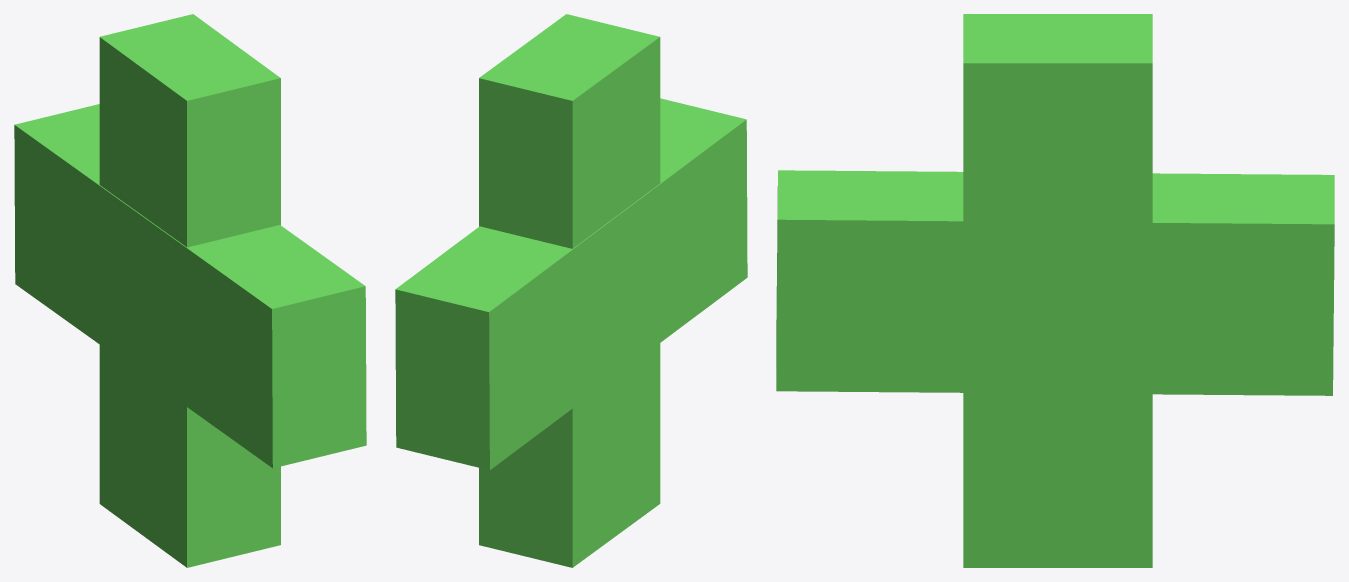
The model's file is heal_object.fbx.
The picture shows the model from 3 angles, left to right: view 1: azimuth 30°, elevation 25°; view 2: azimuth 150°, elevation 25°; view 3: azimuth 270°, elevation 25°; orthographic projection. The views are drawn at different scales.
Visible parts, largest first — view 1: Cube.001, Cube; view 2: Cube.001, Cube; view 3: Cube, Cube.001.
Part boxes in pixels (x1,y1,x2,y2): Cube.001: [14, 104, 366, 468]; Cube: [99, 14, 280, 567]; Cube.001: [395, 98, 747, 470]; Cube: [479, 14, 660, 567]; Cube: [963, 14, 1152, 567]; Cube.001: [776, 170, 1334, 395].
Size of the model in its own units: 42.37 by 200 by 201.
